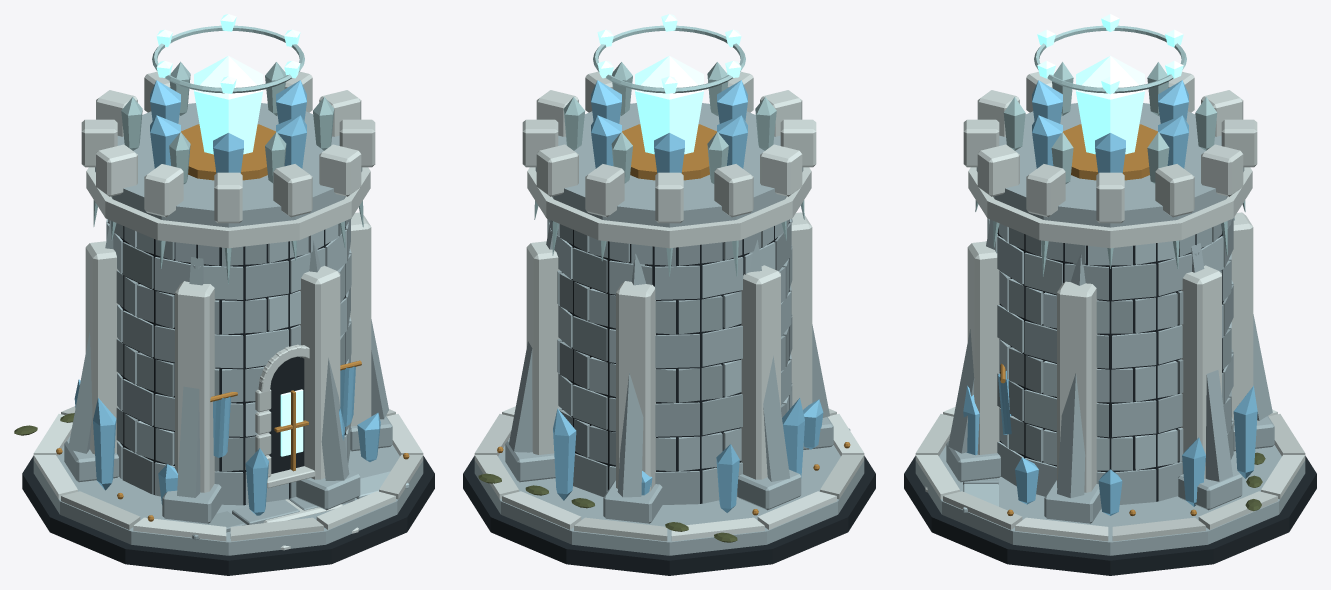
File: frost__eterna__L20.glb
3 renders of one model, left to right at view 1: azimuth 30°, elevation 25°; view 2: azimuth 150°, elevation 25°; view 3: azimuth 270°, elevation 25°, orthographic.
Parts seen in each view (by area): view 1: structure, weapon, banners; view 2: structure, weapon; view 3: structure, weapon, banners.
Boxes of the visible parts, x1=… form: structure: x1=14, y1=71, x2=434, y2=575; weapon: x1=121, y1=14, x2=334, y2=183; banners: x1=210, y1=360, x2=361, y2=457; structure: x1=463, y1=71, x2=875, y2=575; weapon: x1=563, y1=14, x2=776, y2=183; structure: x1=904, y1=71, x2=1316, y2=575; weapon: x1=1003, y1=14, x2=1217, y2=183; banners: x1=998, y1=363, x2=1011, y2=434.
Size of the model in its own units: 0.8624 by 1.02 by 0.8624.
